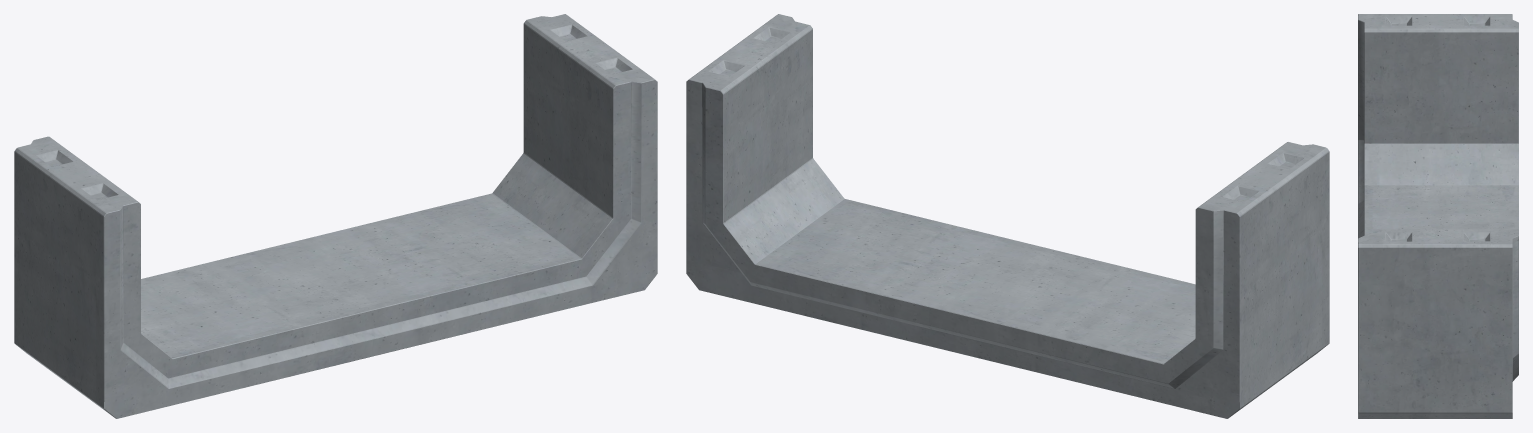
Rendered from Przepust Skrzynkowy Otwarty.glb.
The picture shows the model from 3 angles, left to right: view 1: azimuth 30°, elevation 25°; view 2: azimuth 150°, elevation 25°; view 3: azimuth 270°, elevation 25°; orthographic projection. The views are drawn at different scales.
Parts seen in each view (by area): view 1: Przepust_Otwarty; view 2: Przepust_Otwarty; view 3: Przepust_Otwarty.
Boxes of the visible parts, <box> form: Przepust_Otwarty: <box>14,14,657,418</box>; Przepust_Otwarty: <box>686,14,1329,418</box>; Przepust_Otwarty: <box>1358,14,1518,418</box>.
Bounding box in the file's own units: 3.52 × 1.27 × 1.03.
1 material, 1 textured.
